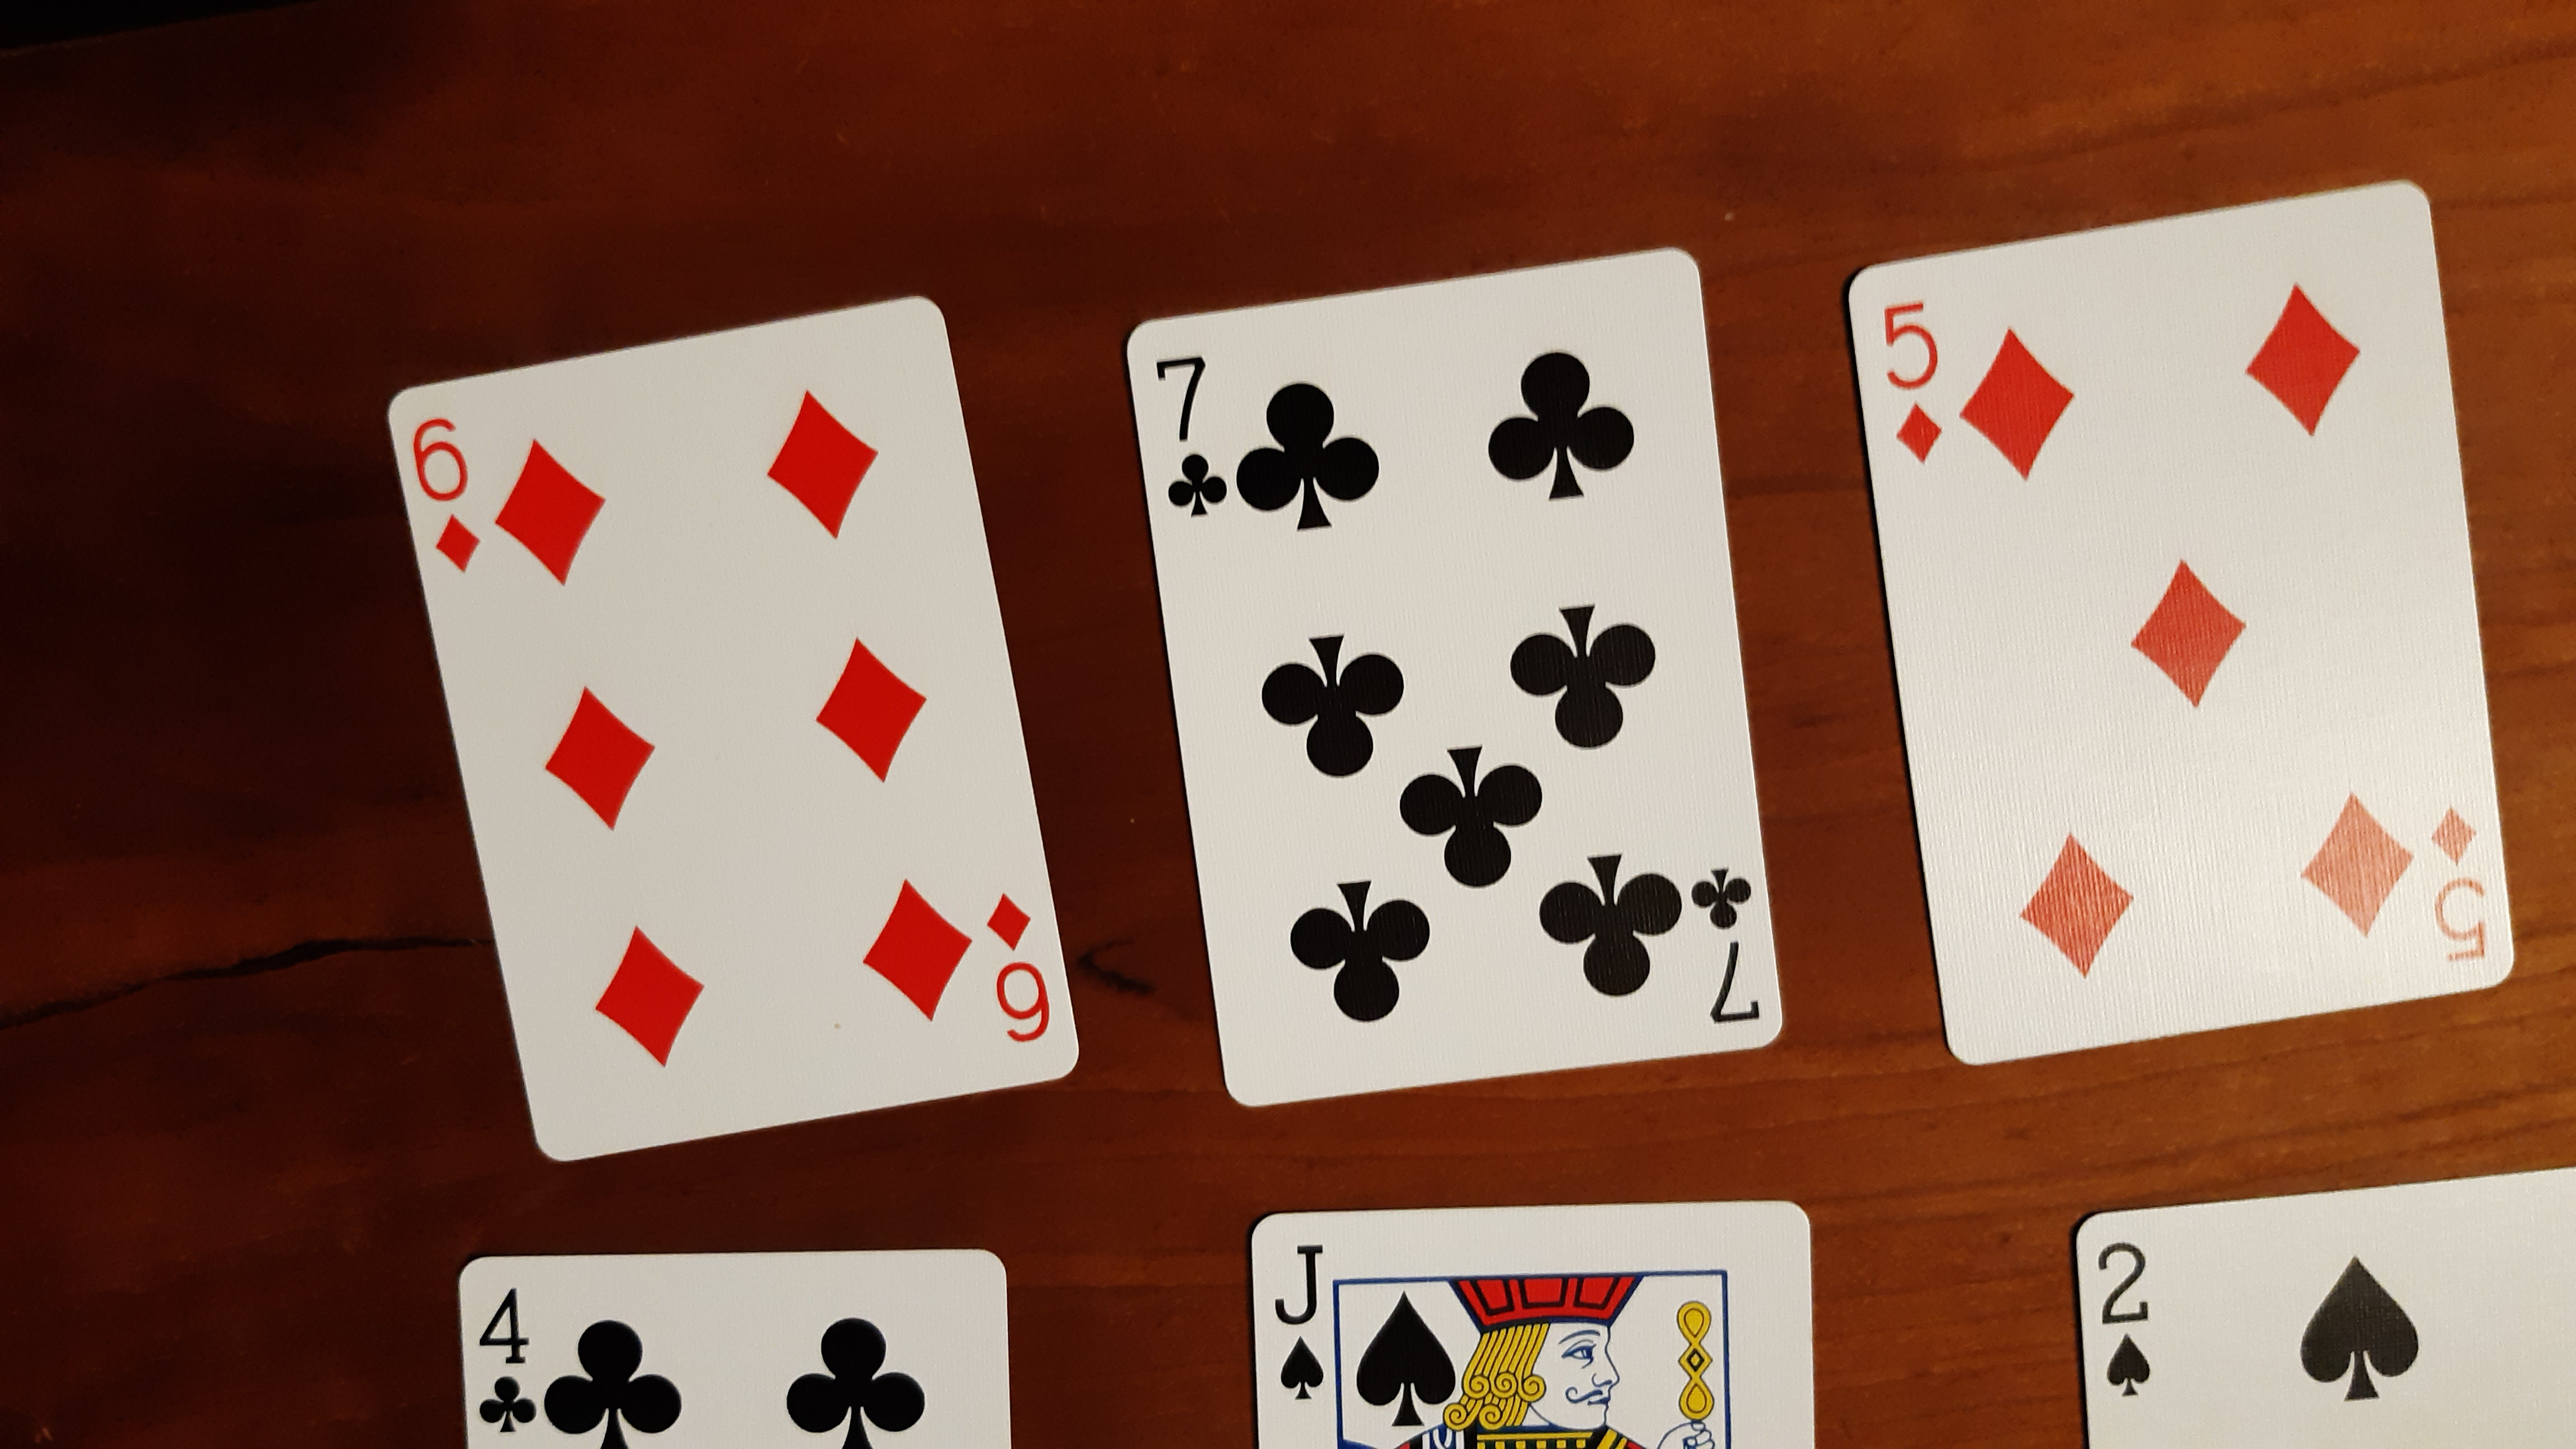Black_Club_4: (478, 1283, 540, 1435)
Black_Club_7: (1143, 336, 1233, 538), (1690, 856, 1775, 1030)
Black_Spade_2: (2089, 1230, 2164, 1407)
Black_Spade_Jack: (1260, 1233, 1341, 1408)
Red_Diamond_5: (1874, 285, 1944, 467), (2424, 800, 2495, 964)
Red_Diamond_6: (407, 398, 1058, 1058)
